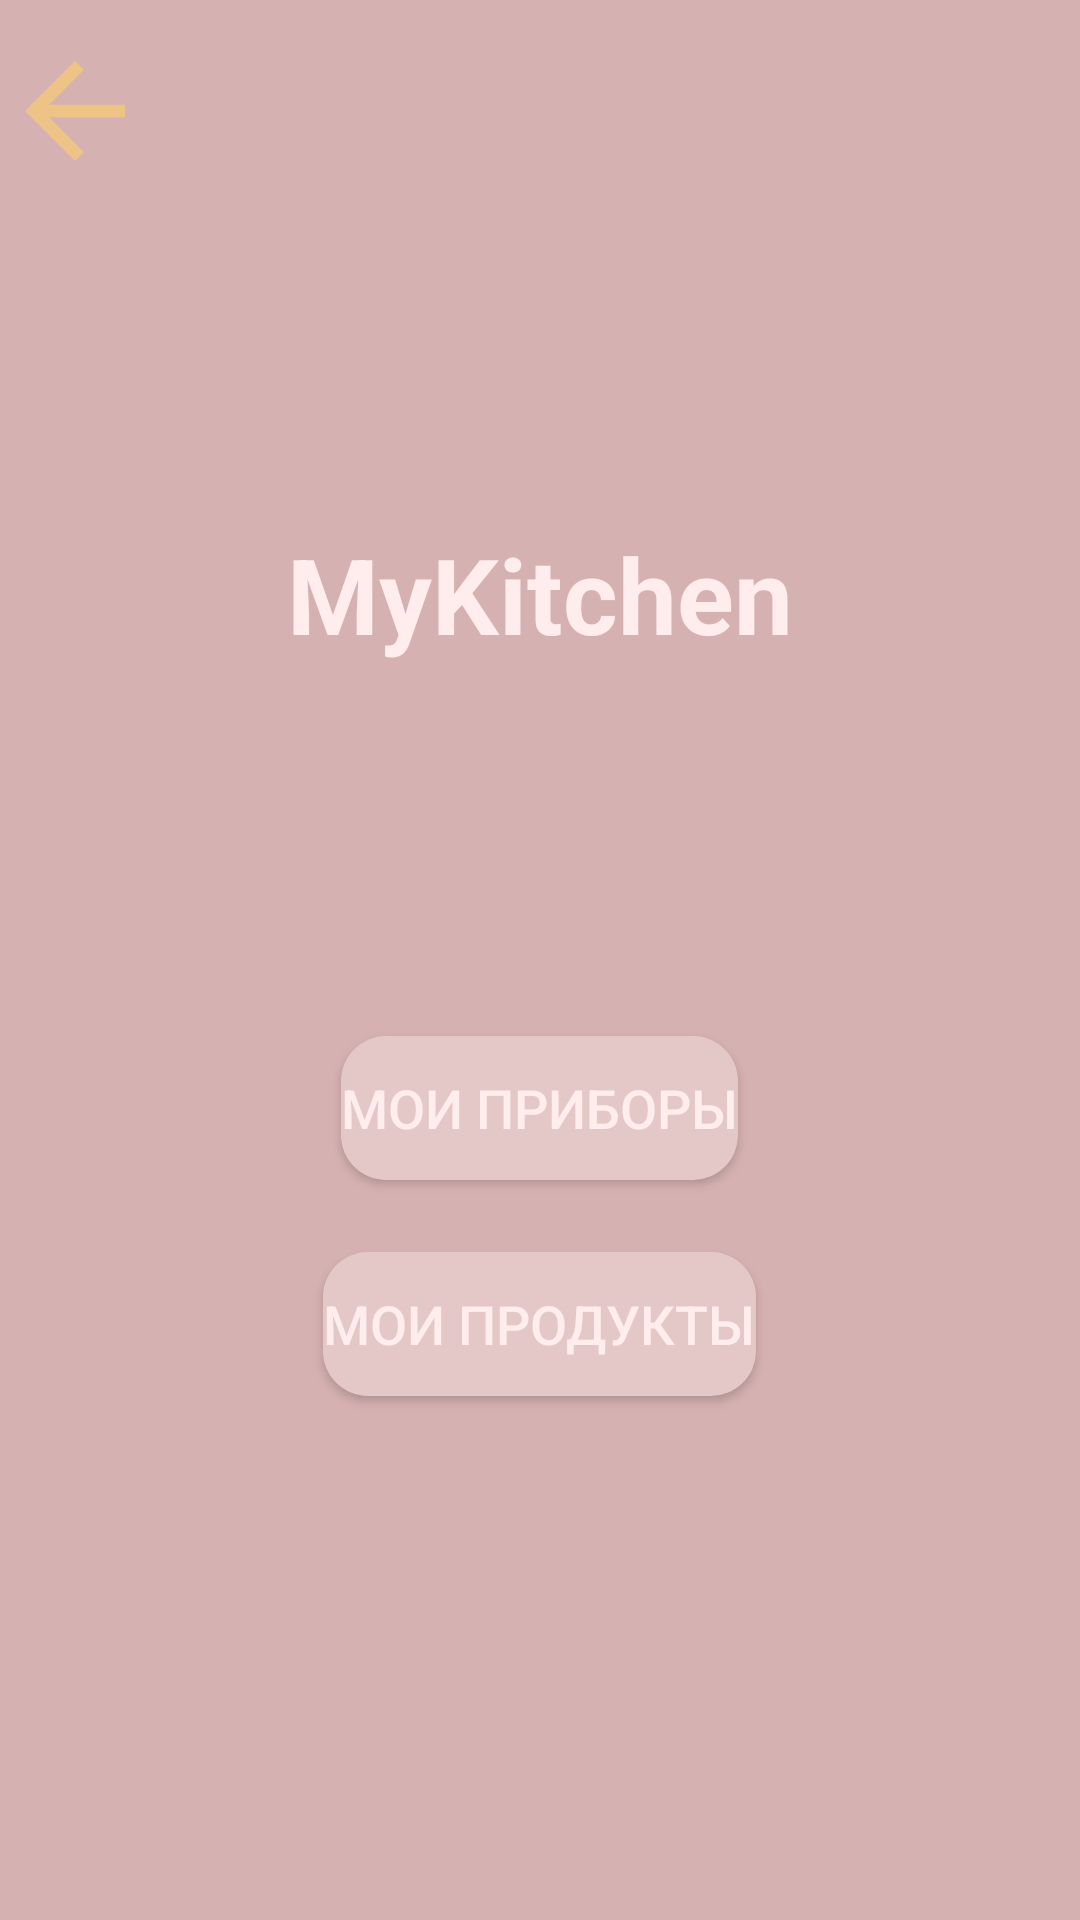

Icons on this 1080px×1920px Android screen, each with its box as (x1, y1, x2, y2):
arrow back: (26, 62, 125, 160)
